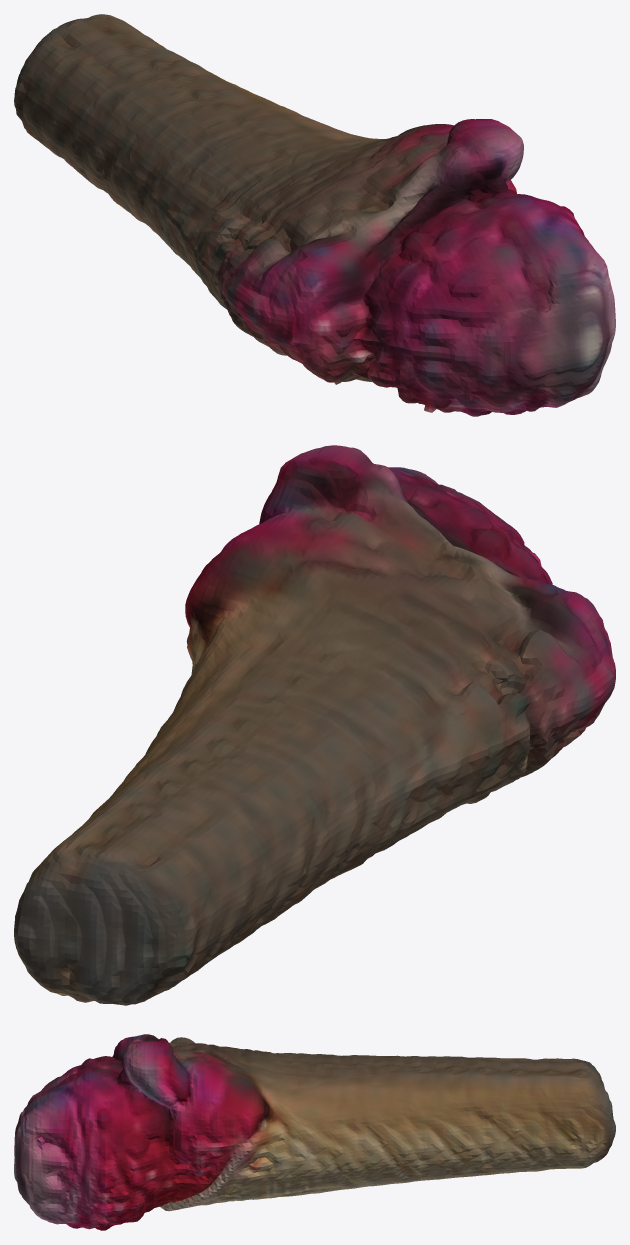
The picture shows the model from 3 angles, top to bottom: view 1: azimuth 30°, elevation 25°; view 2: azimuth 150°, elevation 25°; view 3: azimuth 270°, elevation 25°; orthographic projection. The views are drawn at different scales.
Bounding box in the file's own units: 0.4571 × 0.3495 × 1.03.
